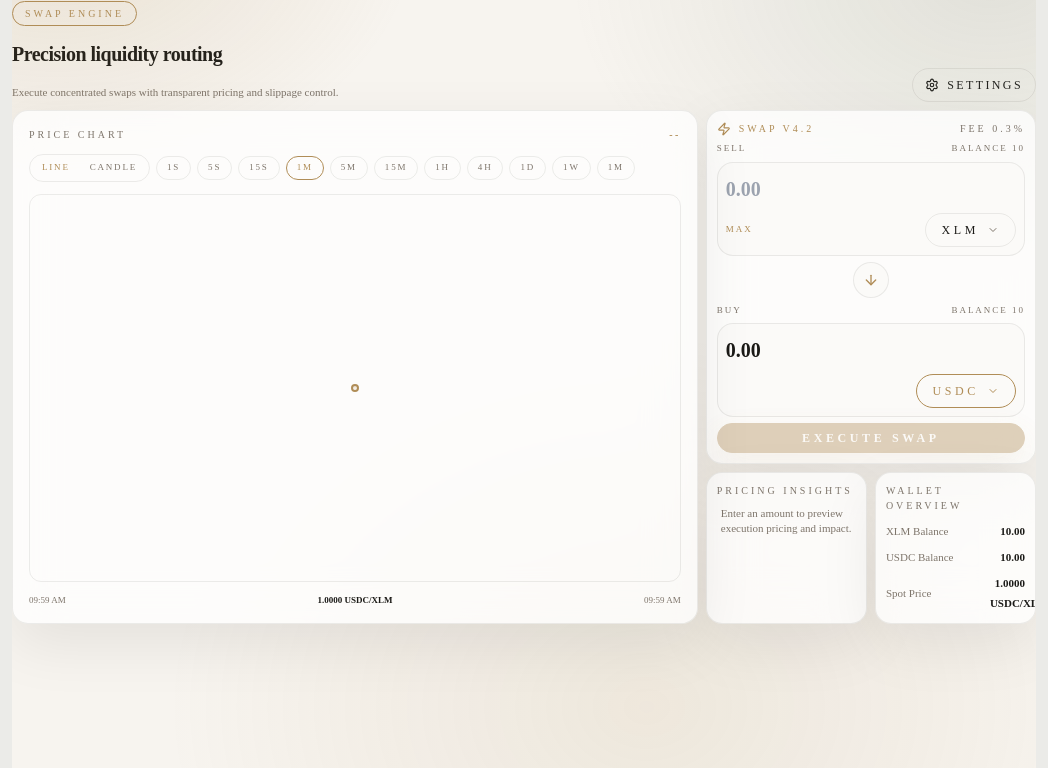
Test case: SwapView › handles missing router by showing connect wallet error
Type "10" into the number field with placeholder "0.00" at (871, 188), box [726, 170, 1016, 206]
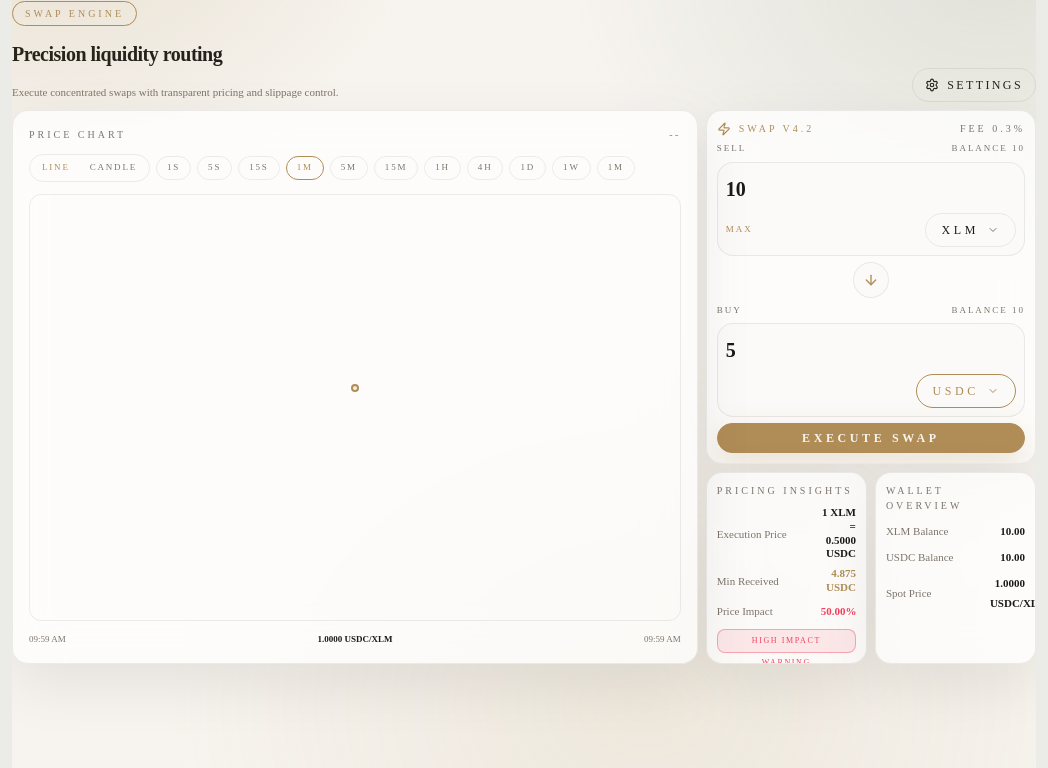
Check: the text "Min Received" is shown, box [717, 575, 779, 587]
Click the button "Execute Swap" at (871, 438), box [717, 423, 1025, 453]
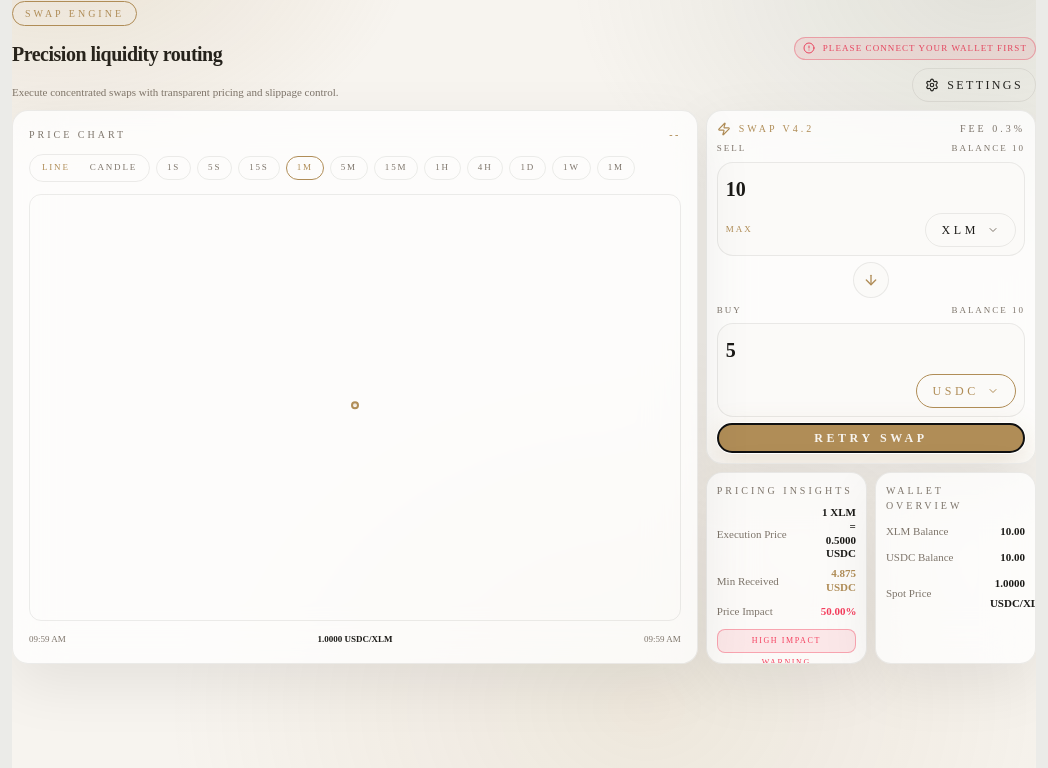
Check: the text "Please connect your wallet first" is shown, box [823, 42, 1027, 55]
Check: the button "Retry Swap" is shown, box [717, 423, 1025, 453]
